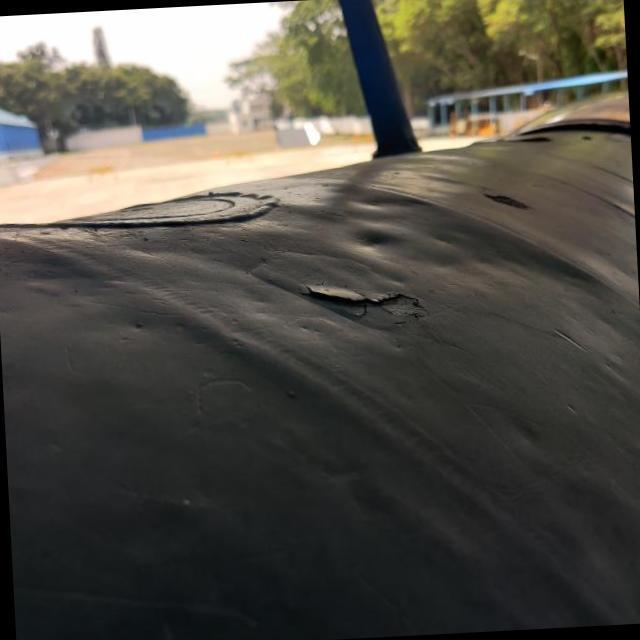Dent: (430, 205, 612, 322), (340, 210, 413, 260)
Rupture: (294, 265, 432, 338)
